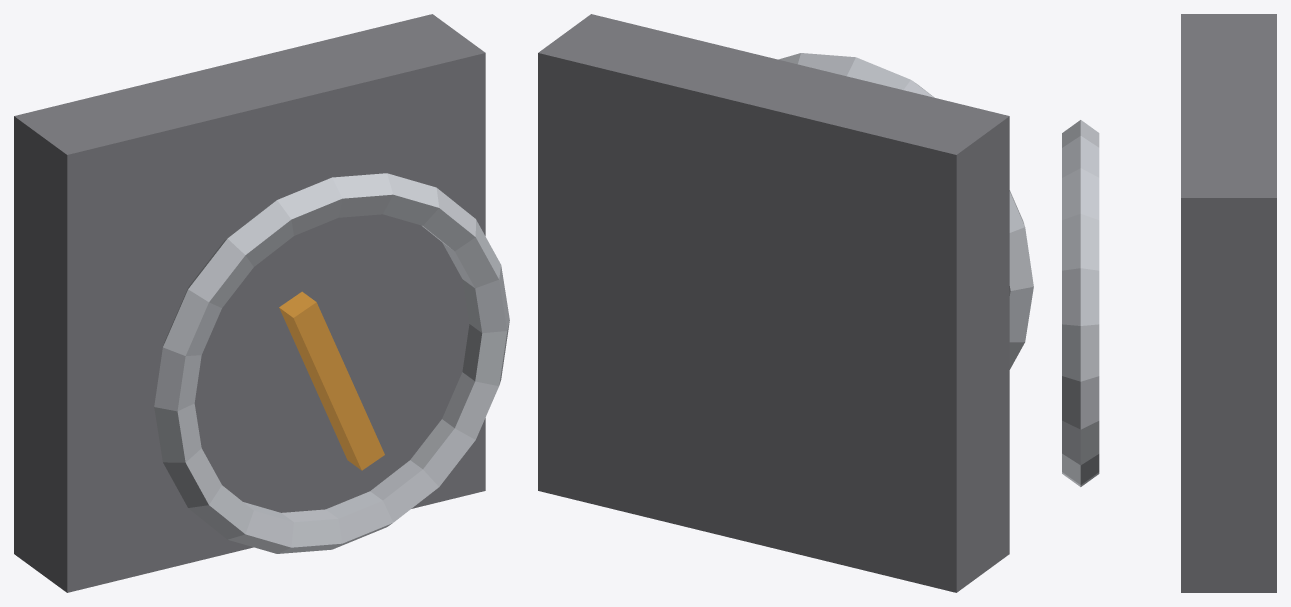
Rendered from rune_dial_rotator.glb.
3 renders of one model, left to right at view 1: azimuth 30°, elevation 25°; view 2: azimuth 150°, elevation 25°; view 3: azimuth 270°, elevation 25°, orthographic. The views are drawn at different scales.
Visible parts, largest first — view 1: puzzle_base, rotating_dial, dial_marker; view 2: puzzle_base, rotating_dial; view 3: puzzle_base, rotating_dial.
Part boxes in pixels (x1=…): puzzle_base: x1=14, y1=14, x2=485, y2=592; rotating_dial: x1=154, y1=173, x2=509, y2=553; dial_marker: x1=279, y1=291, x2=384, y2=470; puzzle_base: x1=538, y1=14, x2=1009, y2=592; rotating_dial: x1=778, y1=53, x2=1033, y2=369; puzzle_base: x1=1181, y1=14, x2=1276, y2=592; rotating_dial: x1=1062, y1=120, x2=1099, y2=486.
Size of the model in its own units: 1 by 1 by 0.4928.
